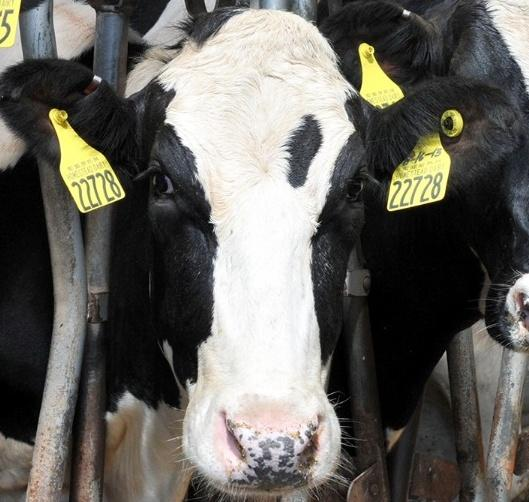muzzles: (174, 389, 350, 498)
